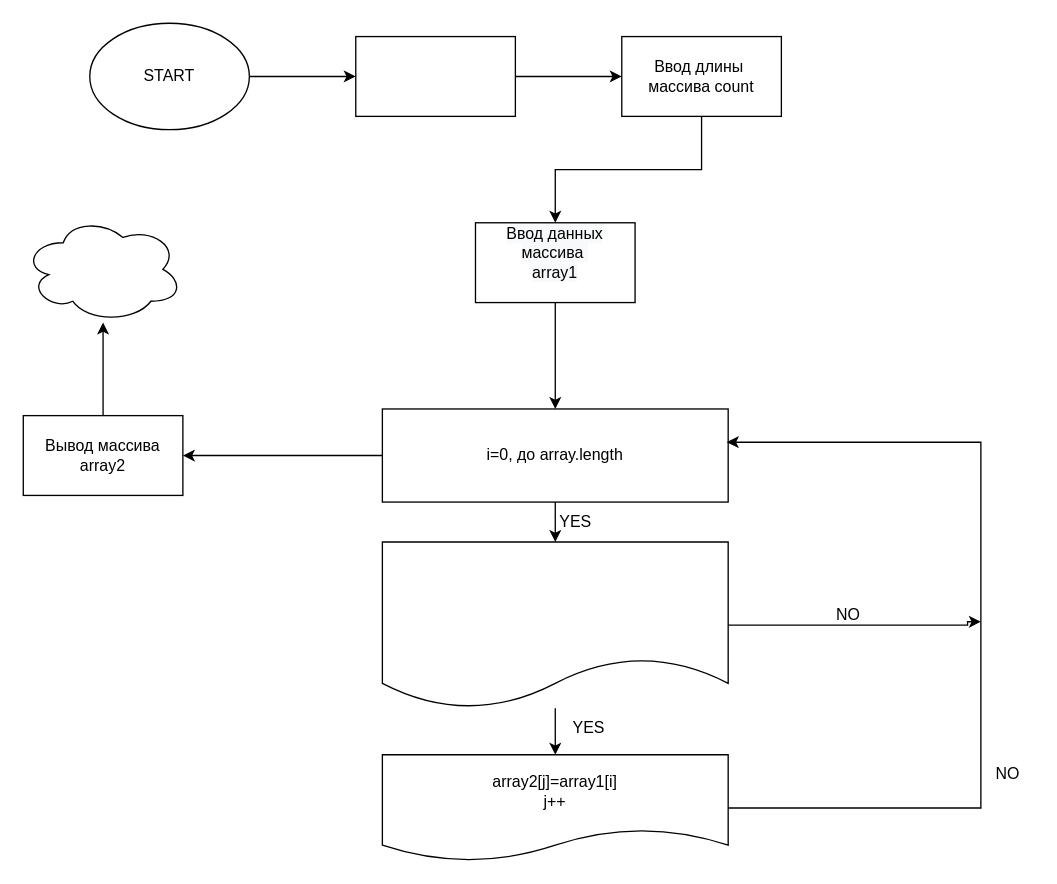
Image size: 1057x884. Some labels were removed from this diagram. The shapes that lost their labels are listed below. From the top down, each one's box as (x1, y1, x2, y2) in pixels, then its label:
(354, 35, 515, 116): array1 array2 i=0 count=0
(22, 215, 183, 323): END
(381, 541, 728, 708): Длина array1[i],<=3
